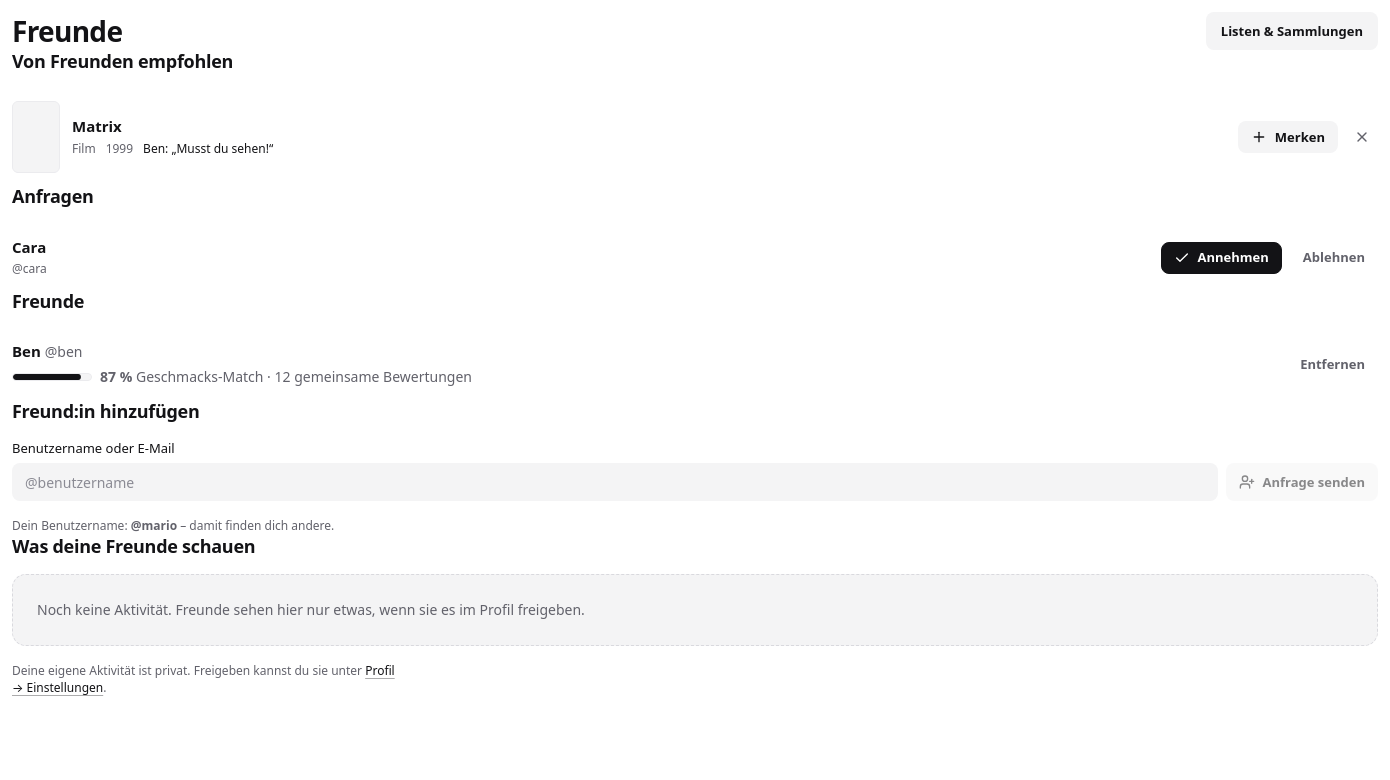
Test: FriendsPage › shows requests, the taste match and my own handle
The image size is (1390, 780).
Expected: the text "87 %" is shown, left=100, top=367, right=132, bottom=386
Expected: the text "87 % Geschmacks-Match · 12 gemeinsame Bewertungen" is shown, left=100, top=366, right=472, bottom=388
Click the button "Annehmen" at (1221, 257), box left=1161, top=241, right=1282, bottom=273
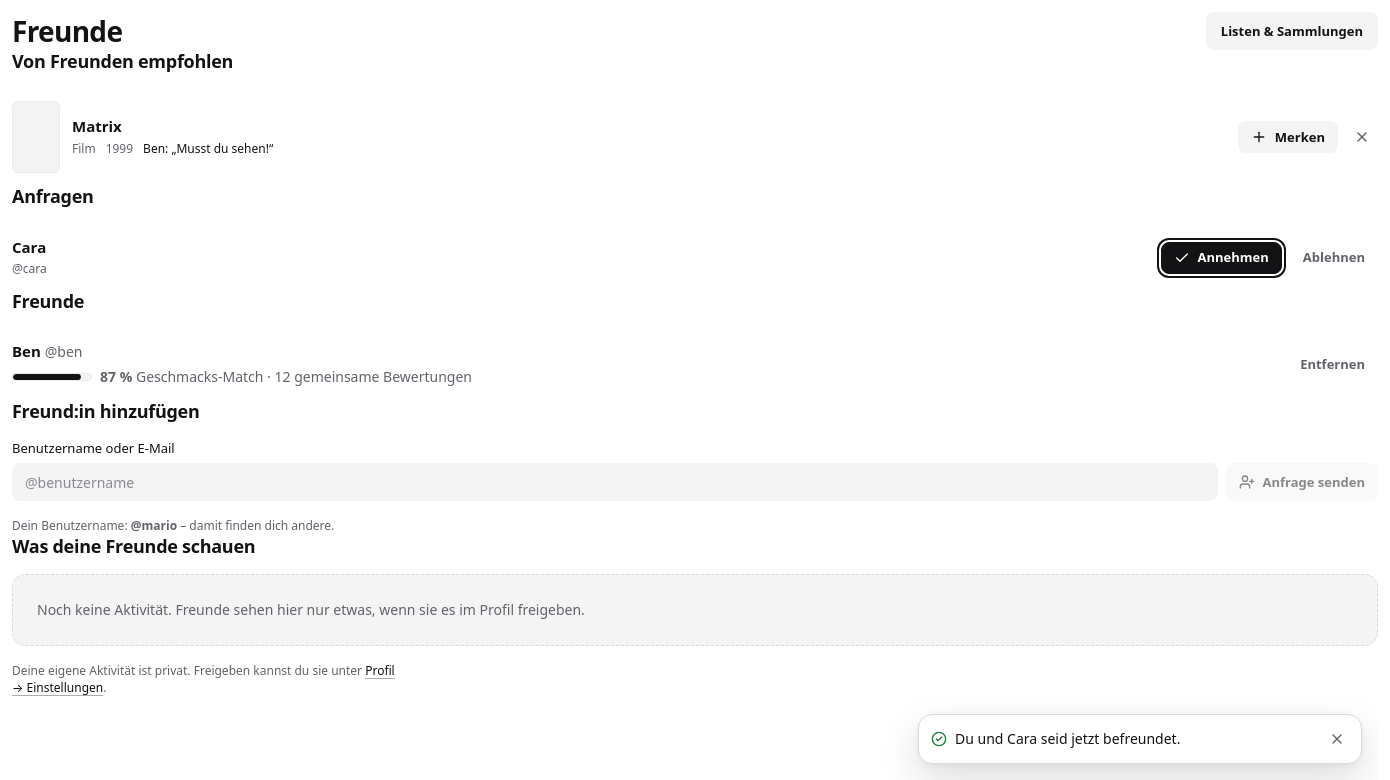
Expected: the text "Du und Cara seid jetzt befreundet." is shown, left=955, top=729, right=1180, bottom=748
